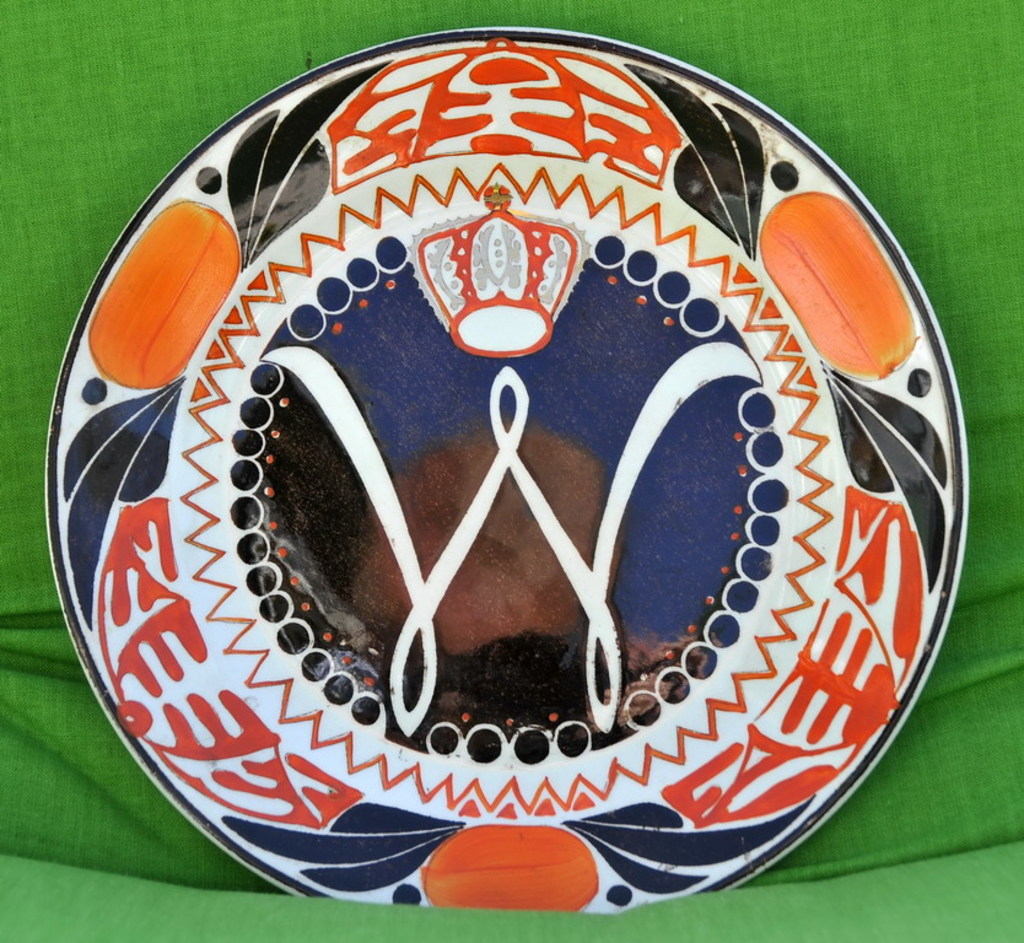plate: (44, 27, 969, 912)
